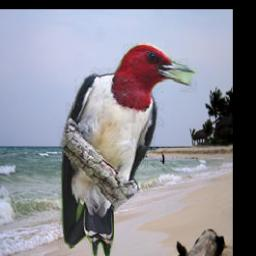Woodpecker: (56, 44, 200, 256)
